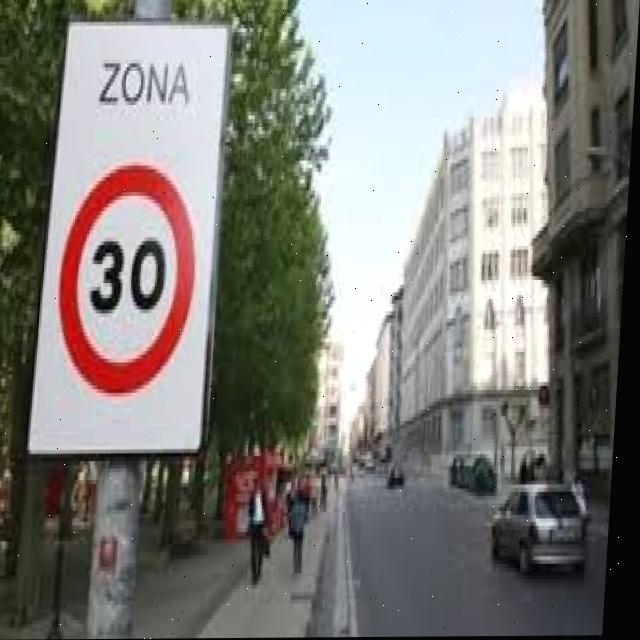Speed limit 30: (56, 155, 209, 398)
